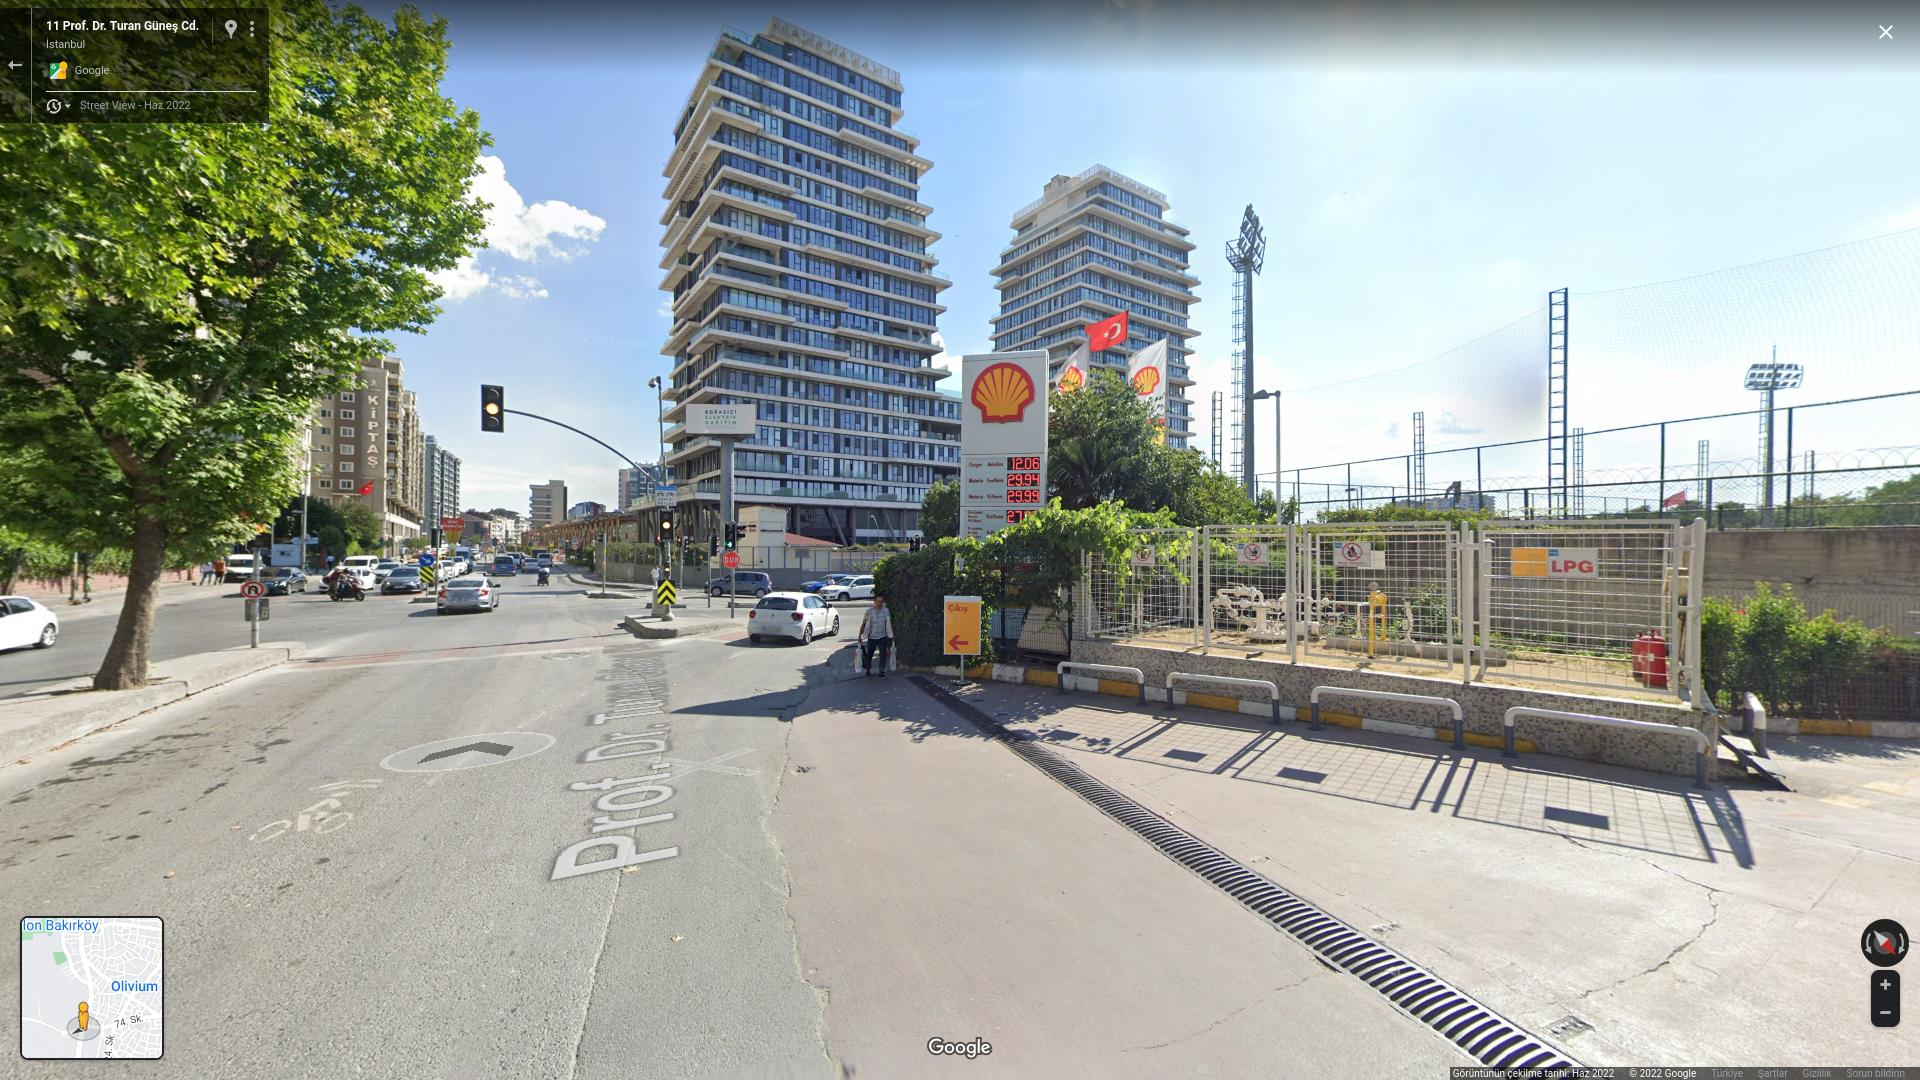greenlight: (723, 522, 735, 550)
stop: (723, 551, 741, 568)
yellowlight: (481, 382, 504, 431), (659, 508, 673, 543)
